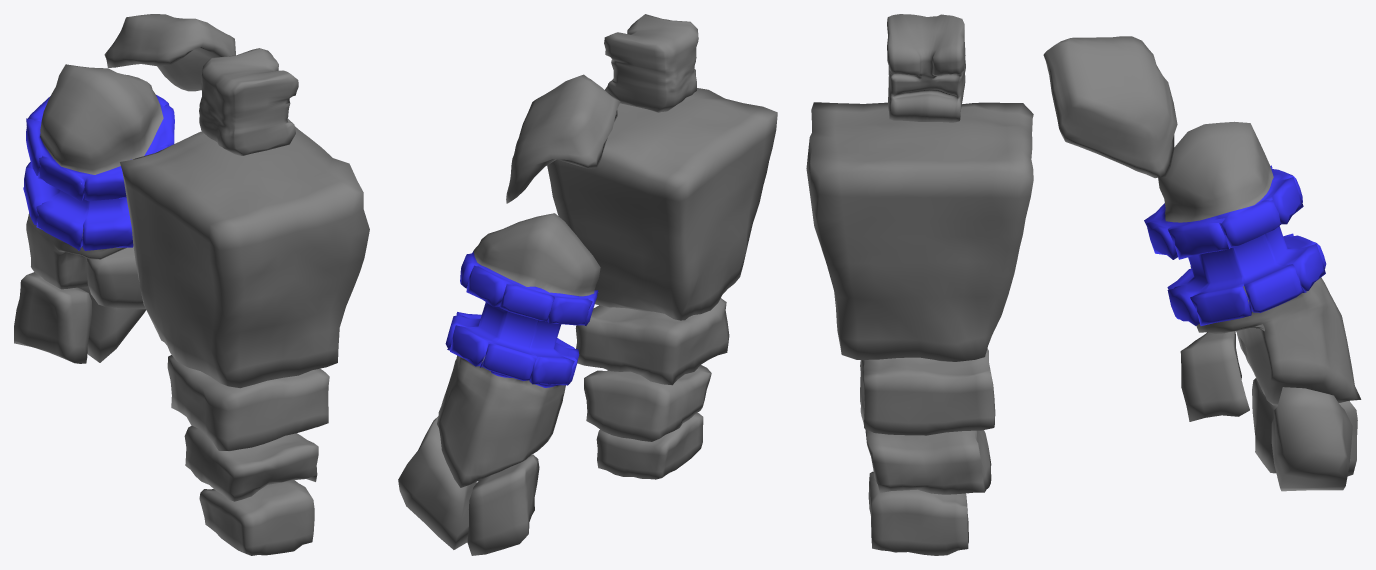
The model's file is Enemy_low.fbx.
3 renders of one model, left to right at view 1: azimuth 30°, elevation 25°; view 2: azimuth 150°, elevation 25°; view 3: azimuth 270°, elevation 25°, orthographic. The views are drawn at different scales.
Visible parts, largest first — view 1: Enemy_low; view 2: Enemy_low; view 3: Enemy_low.
Part boxes in pixels (left/top/right/bottom): Enemy_low: left=14, top=14, right=369, bottom=555; Enemy_low: left=398, top=14, right=777, bottom=555; Enemy_low: left=806, top=14, right=1361, bottom=555.
Bounding box in the file's own units: 23.18 × 64.75 × 64.03.
